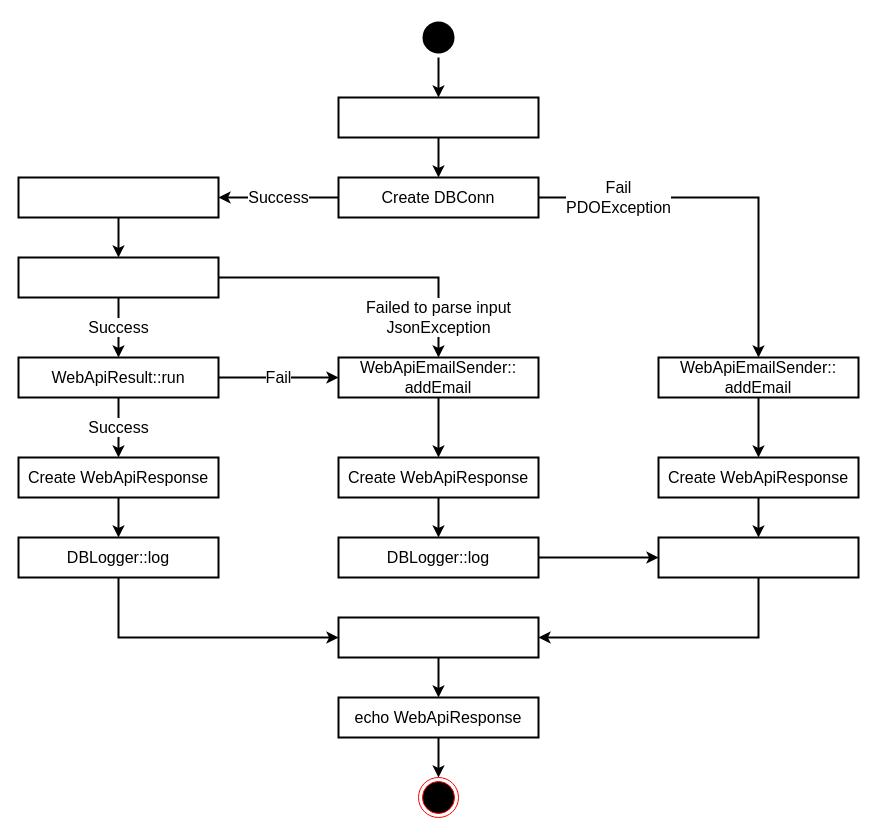
Some shapes in this 876 by 835 pixel diagram are drawn without their labels. The shapes that lost their labels are listed below. From the top down, each one's centre as x and y in pixels, then its label:
At pixel 438 117: "Create WebApiEmailSender".
At pixel 118 197: "Create DBLogger".
At pixel 118 277: "new WebApiRequest".
At pixel 758 557: "Create ErrorFileLogger ErrorFileLogger::log".
At pixel 438 637: "WebApiEmailSender:: sendAllSavedEmail".
